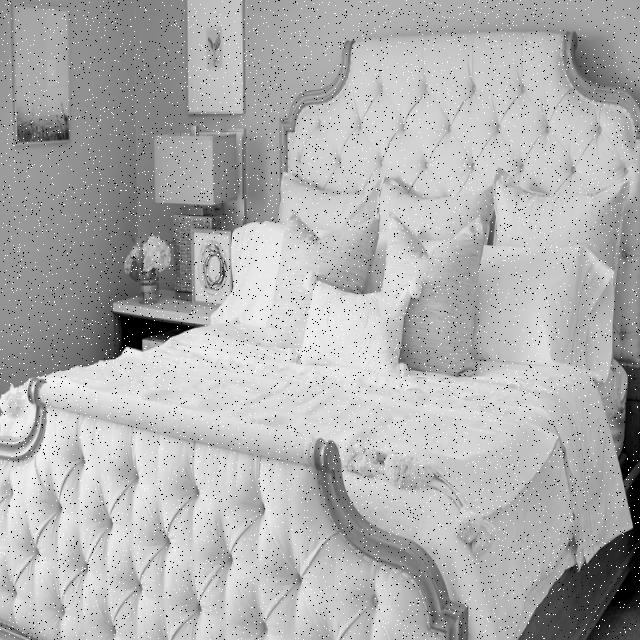bed: (1, 16, 635, 640)
